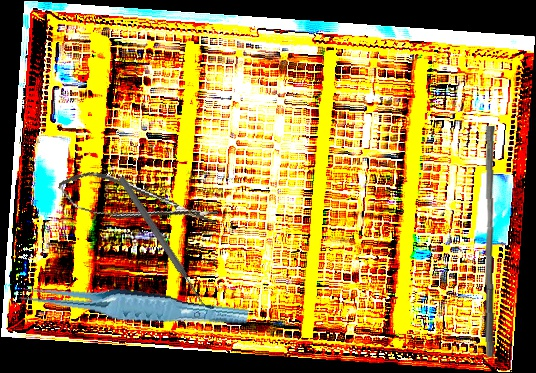Micro Scissor: (54, 164, 221, 242)
Pusher: (116, 175, 209, 309), (477, 125, 504, 358)
Tissue Forceps: (16, 268, 250, 342)
